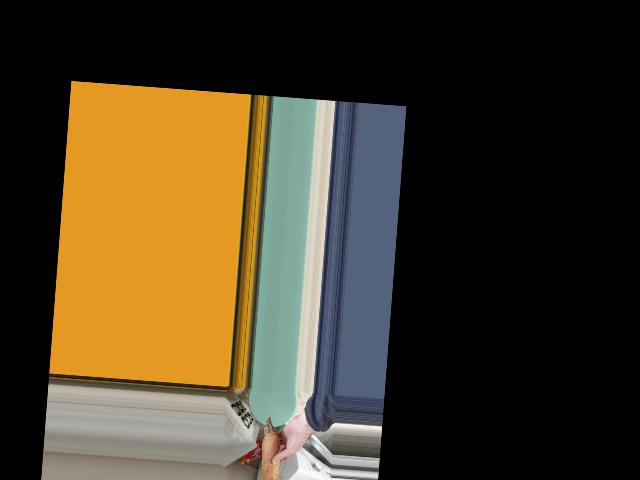sweet_potato: (260, 417, 288, 479)
